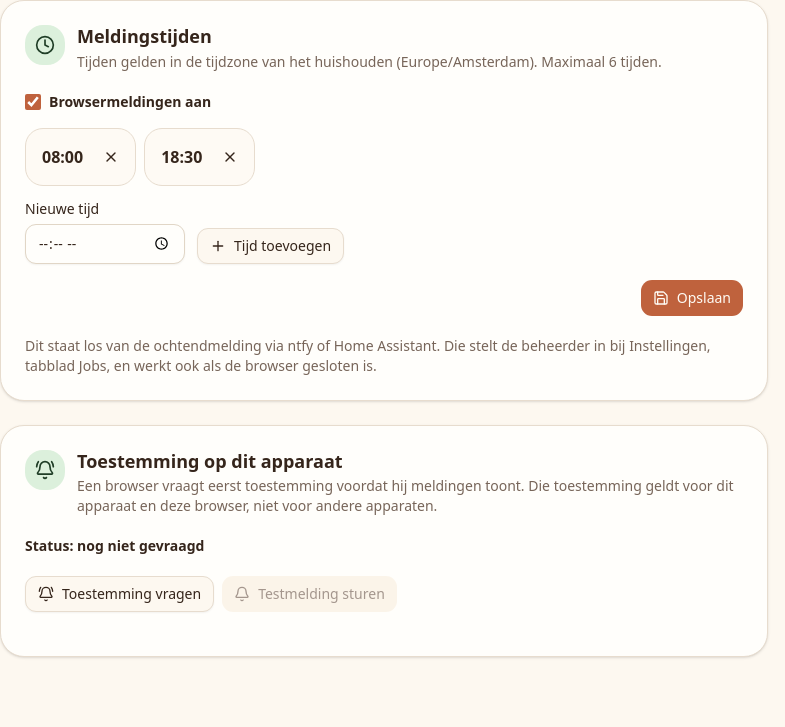
Test: BrowserNotificationsSection moments › clears the saved message as soon as something is edited
The width and height of the screenshot is (785, 727).
Click the button "Opslaan". click: [692, 298]
box: 641,280 -> 743,316
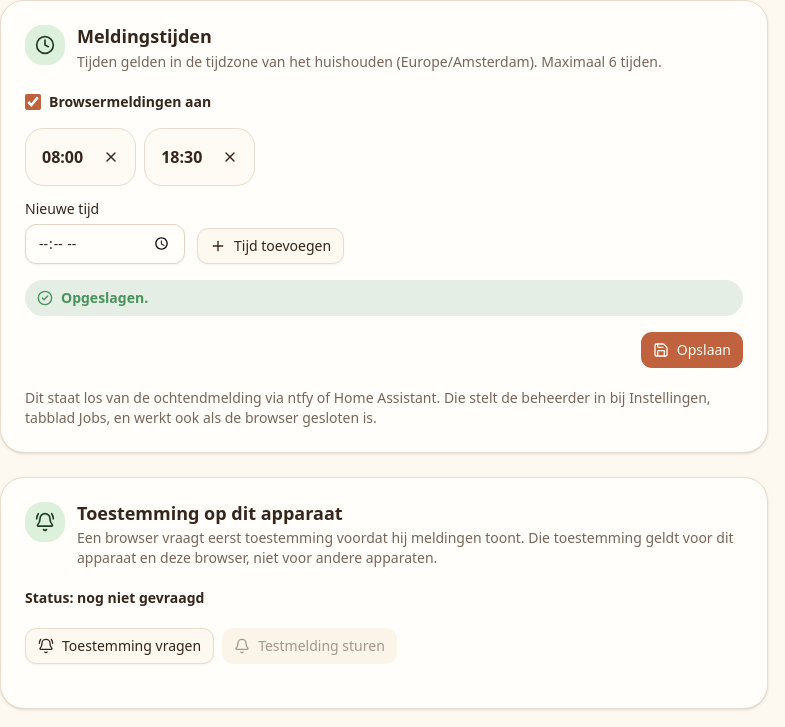
Now the message reads "Opgeslagen.", box 61,288 -> 148,306
Click the checkbox labelled "Browsermeldingen aan". click: [33, 102]
box: 25,94 -> 41,110
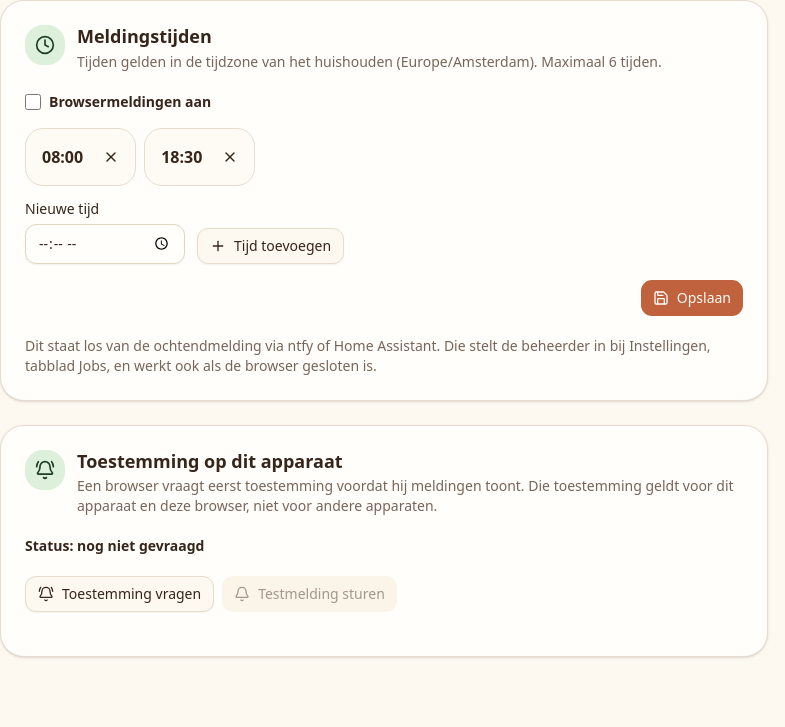
Now the message "Opgeslagen." is gone
